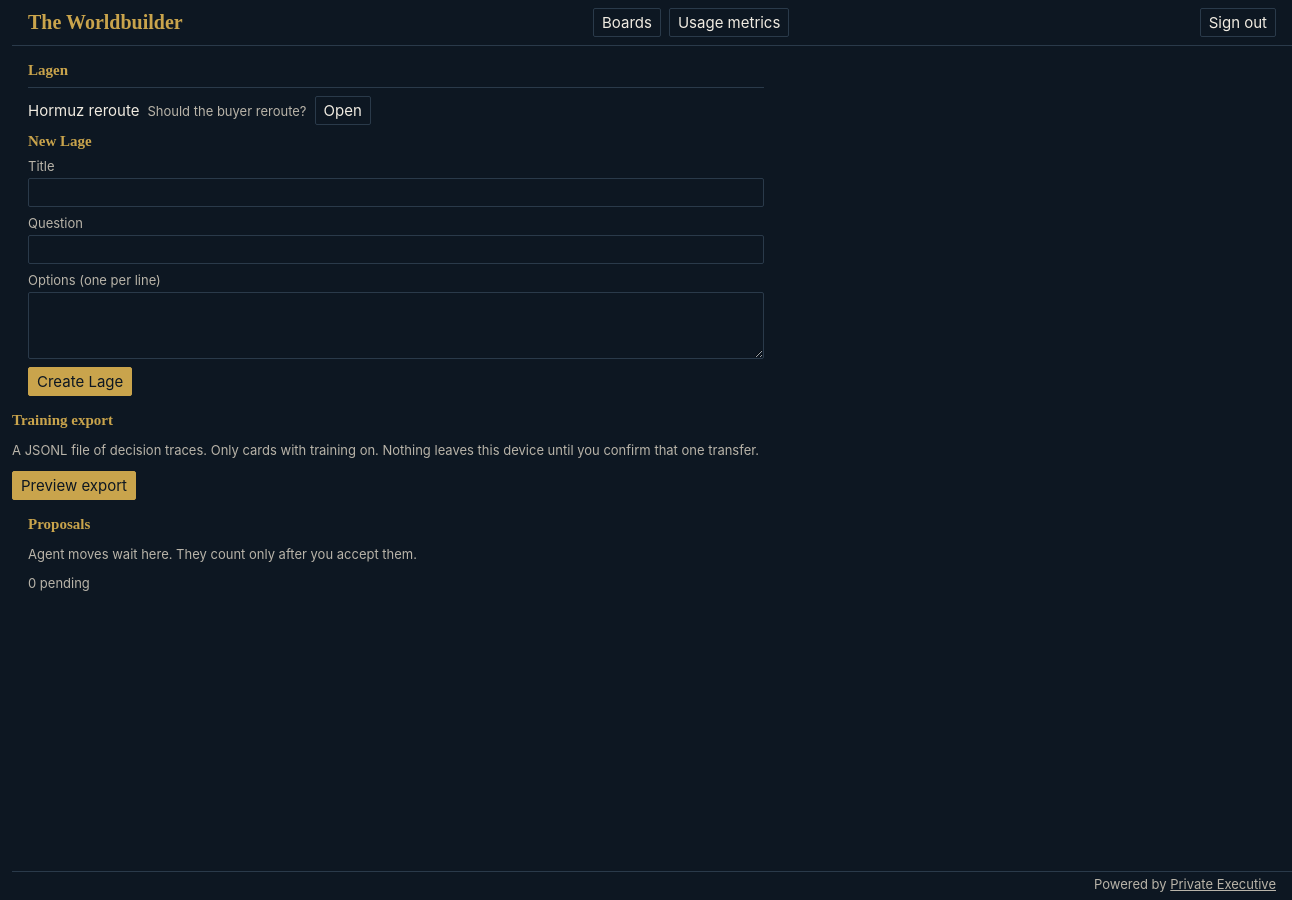
Test: board canvas › shows the stored content type, including a premise and an own assessment
Click the button "Open" at (343, 110), box x1=314 y1=96 x2=371 y2=125
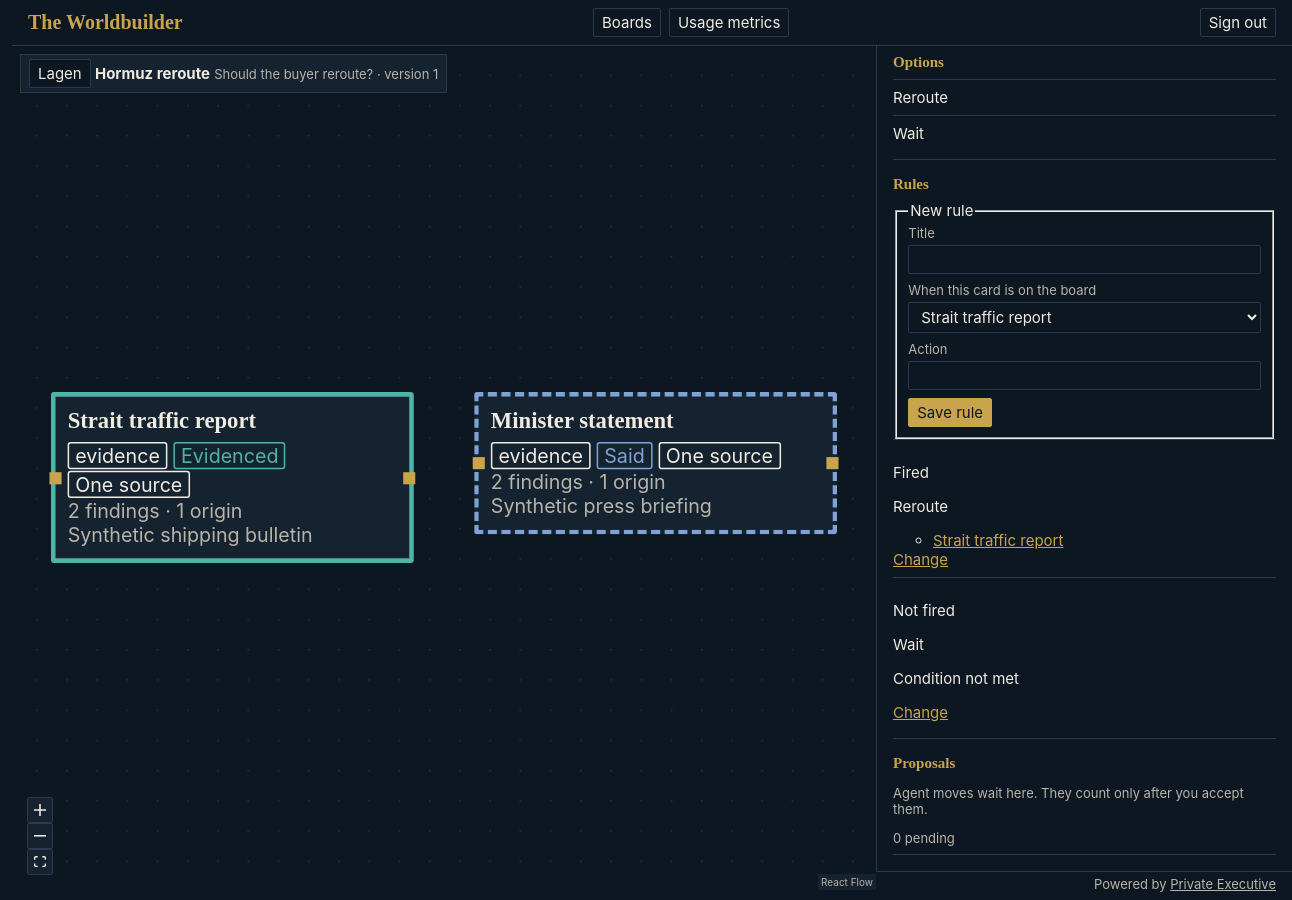
Expected: the element with test id "workbench" is shown
Click the element named "Strait traffic report, evidence, Evidenced, One source, 2 fi" at (232, 478), box x1=51 y1=392 x2=414 y2=563
(page scrolled)
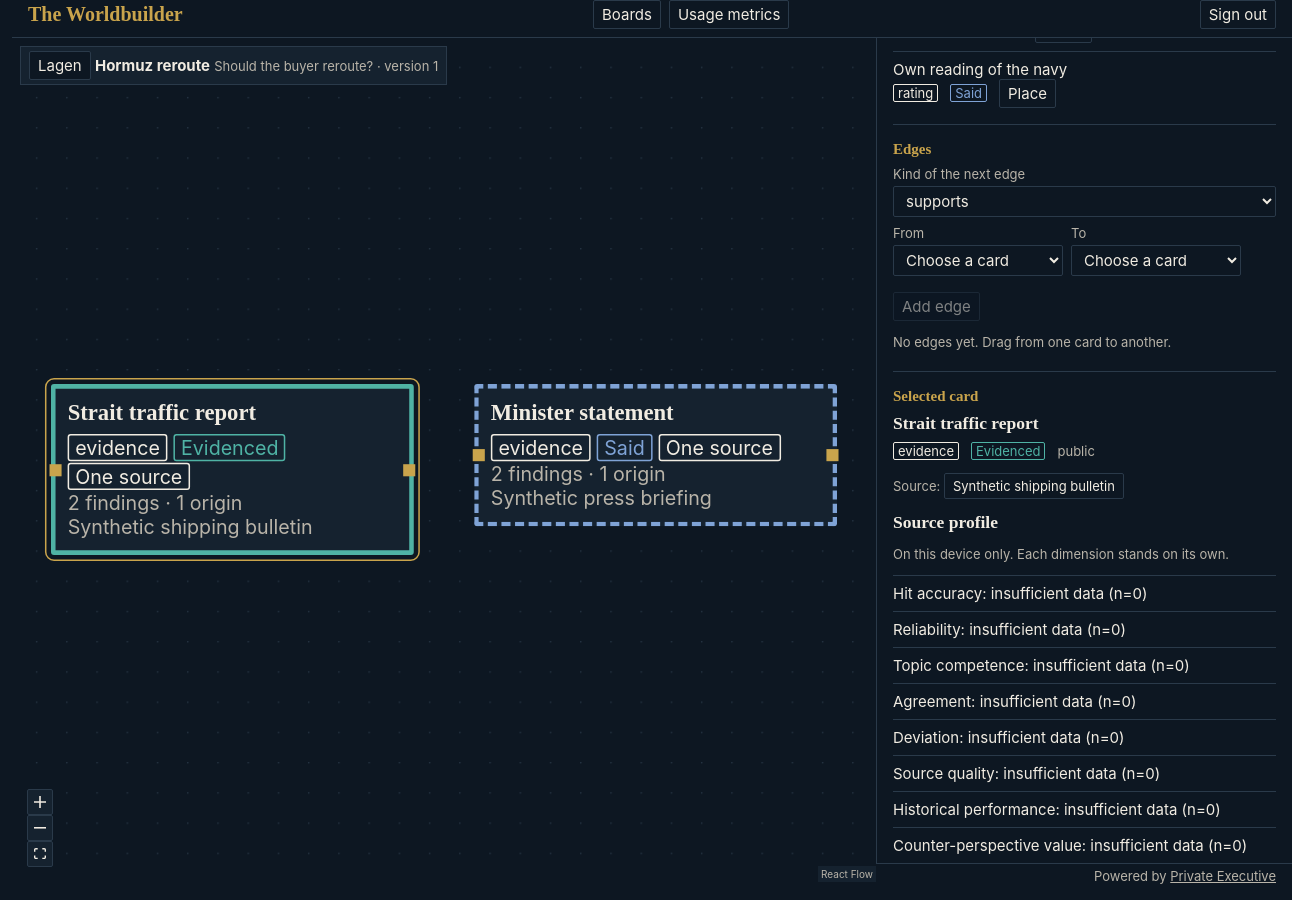
Expected: the text with test id "inspector-type" reads "evidence", x1=898 y1=443 x2=954 y2=459
